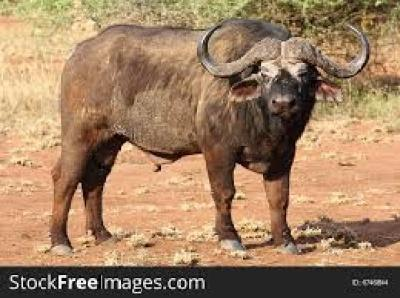buffalo: (50, 19, 370, 257)
